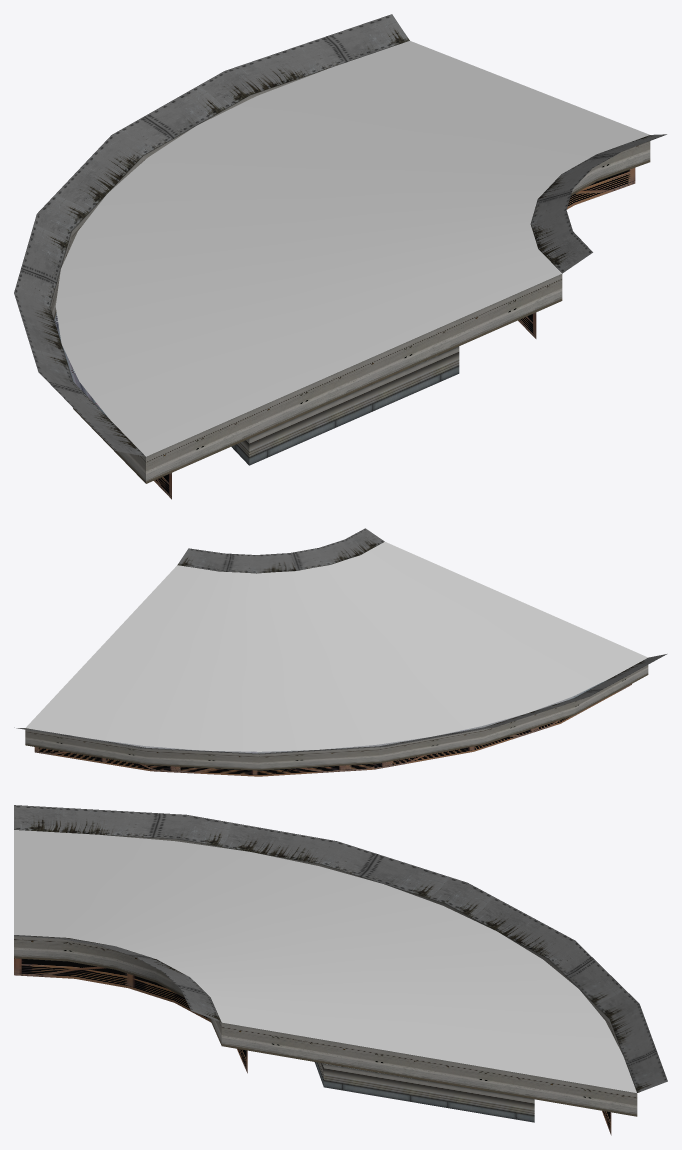
Rendered from Bend1x1BankedB.fbx.
3 views of the same model, one above another, from view 1: azimuth 30°, elevation 25°; view 2: azimuth 150°, elevation 25°; view 3: azimuth 270°, elevation 25° (orthographic). The views are drawn at different scales.
Visible parts, largest first — view 1: Empty_Mesh; view 2: Empty_Mesh; view 3: Empty_Mesh.
Part boxes in pixels (x1=…): Empty_Mesh: x1=14, y1=14, x2=666, y2=499; Empty_Mesh: x1=14, y1=528, x2=666, y2=776; Empty_Mesh: x1=14, y1=805, x2=667, y2=1135.
Bounding box in the file's own units: 25.19 × 5.31 × 25.19.
